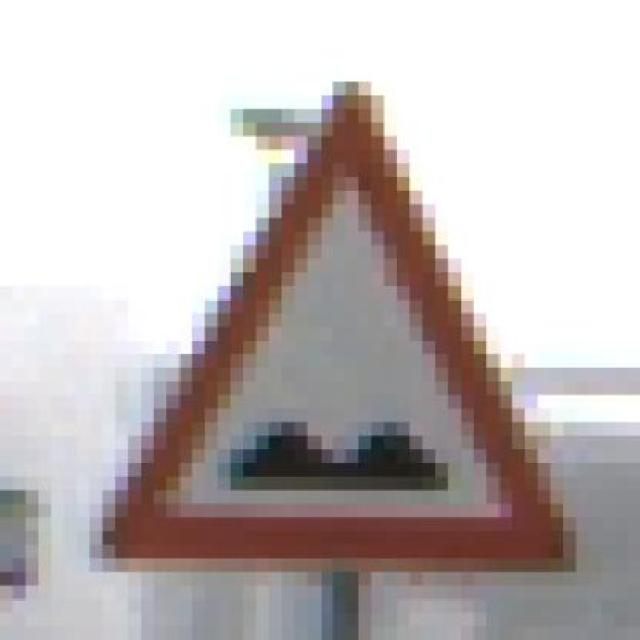Uneven Road: (90, 68, 588, 586)
